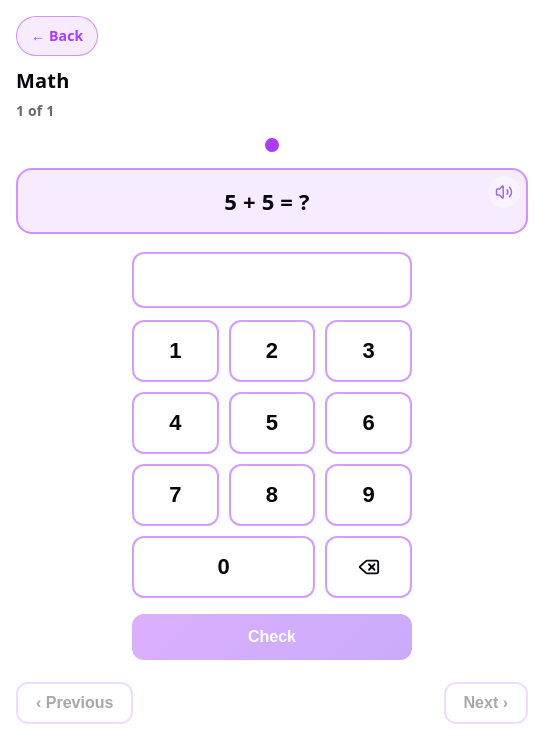
BundlePlayer — numeric entry › posts the typed integer and completes when correct
The image size is (545, 741).
Expected: the text "5 + 5 = ?" is shown, [224, 188, 310, 214]
Step 1. Click the button "1" → (175,351), box [132, 320, 219, 382]
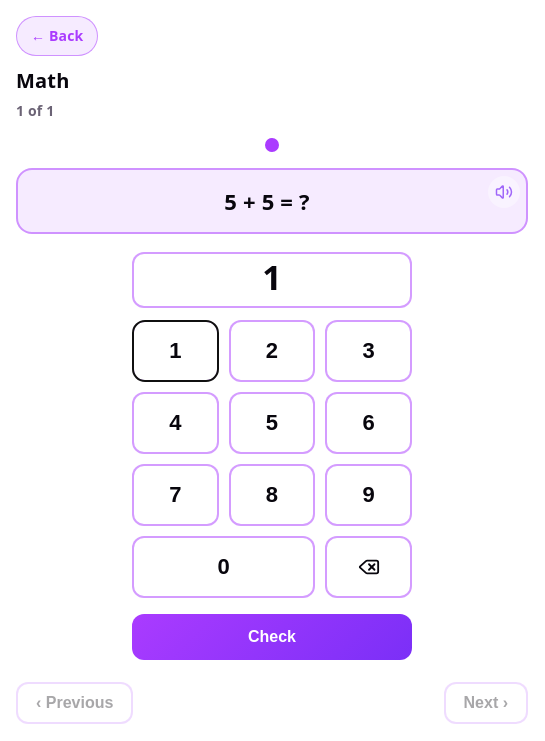
Step 2. Click the button "0" → (224,567), box [132, 536, 315, 598]
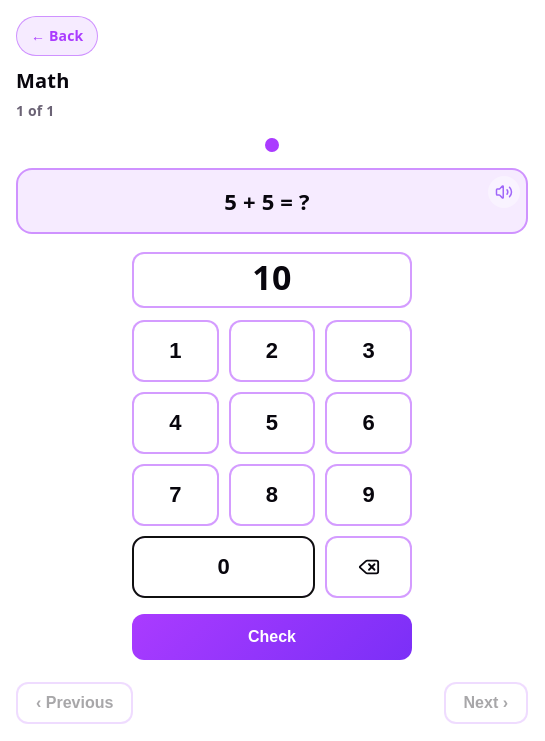
Step 3. Click the button "Check" → (272,637), box [132, 614, 412, 660]
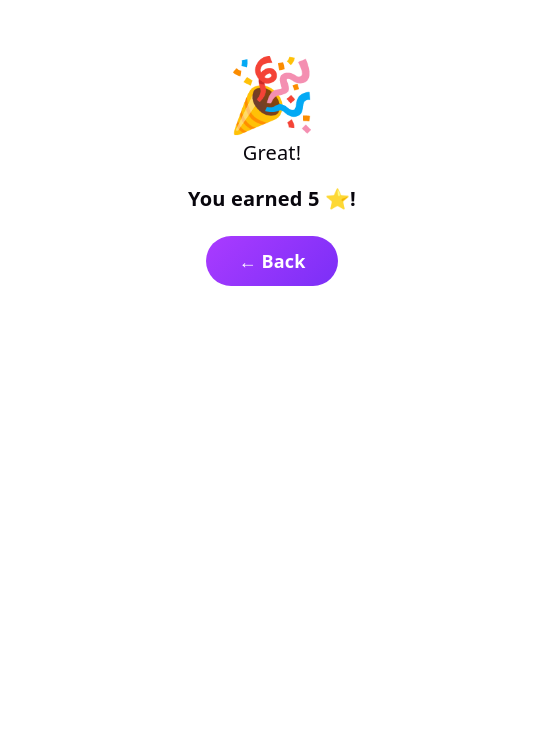
Expected: the heading "Great!" is shown, [243, 139, 301, 166]
Expected: the text "You earned 5 ⭐!" is shown, [188, 185, 356, 212]
